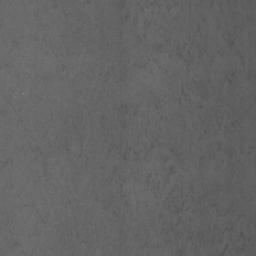Silk spot: (96, 24, 256, 217), (142, 173, 256, 256), (118, 0, 237, 42), (23, 127, 92, 195), (81, 56, 128, 83), (53, 51, 80, 80), (24, 204, 49, 232), (0, 215, 21, 248)
